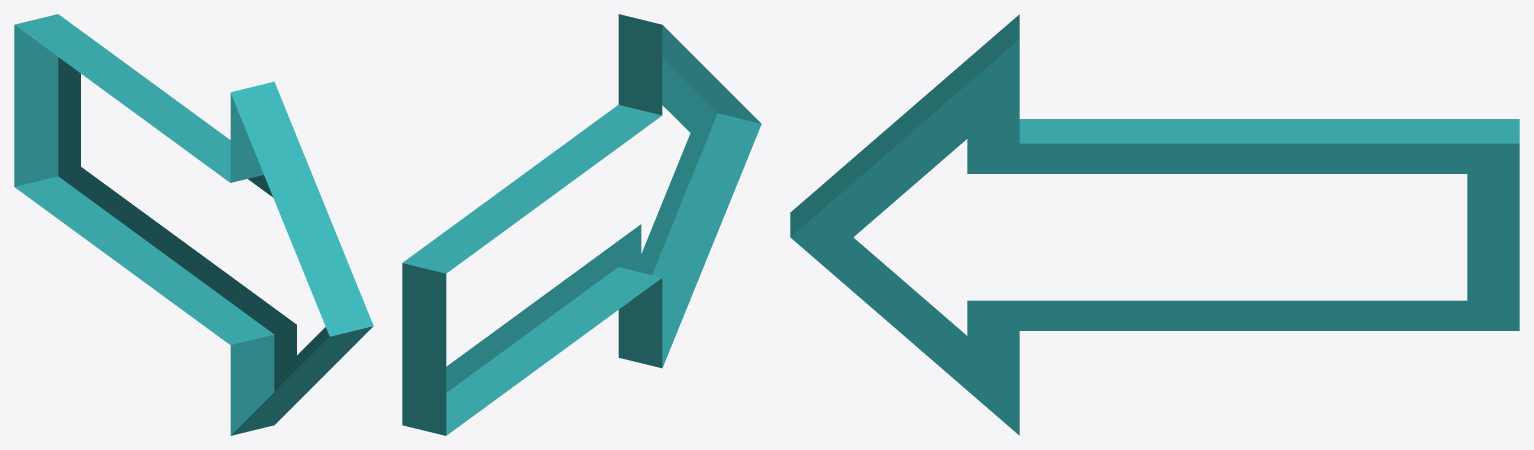
Rendered from ArrowSign.fbx.
The picture shows the model from 3 angles, left to right: view 1: azimuth 30°, elevation 25°; view 2: azimuth 150°, elevation 25°; view 3: azimuth 270°, elevation 25°; orthographic projection. The views are drawn at different scales.
Visible parts, largest first — view 1: ArrowLight; view 2: ArrowLight; view 3: ArrowLight.
Part boxes in pixels (x1=…): ArrowLight: x1=14, y1=14, x2=373, y2=435; ArrowLight: x1=402, y1=14, x2=761, y2=435; ArrowLight: x1=790, y1=14, x2=1519, y2=435.
Size of the model in its own units: 101 by 8.11 by 60.61.
